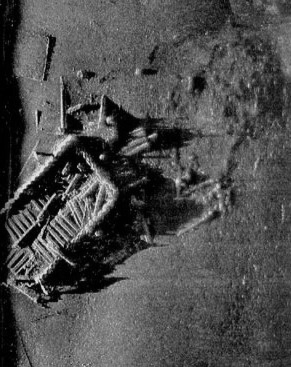ship: (1, 128, 138, 300)
